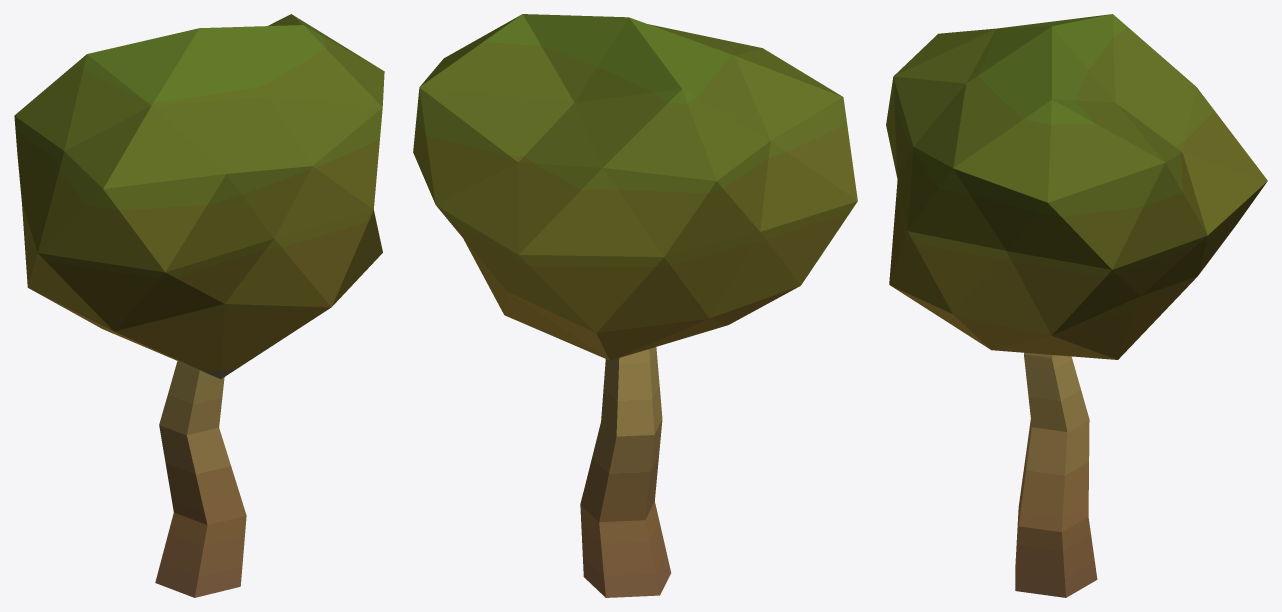
The model's file is prop_tc_simple_tree.glb.
3 renders of one model, left to right at view 1: azimuth 30°, elevation 25°; view 2: azimuth 150°, elevation 25°; view 3: azimuth 270°, elevation 25°, orthographic. The views are drawn at different scales.
Parts seen in each view (by area): view 1: LeafTree_1; view 2: LeafTree_1; view 3: LeafTree_1.
Part boxes in pixels (x1,y1,x2,y2): LeafTree_1: [14, 14, 384, 597]; LeafTree_1: [413, 14, 857, 597]; LeafTree_1: [886, 14, 1267, 597].
Size of the model in its own units: 1.31 by 1.84 by 1.15.
1 material, 1 textured.
